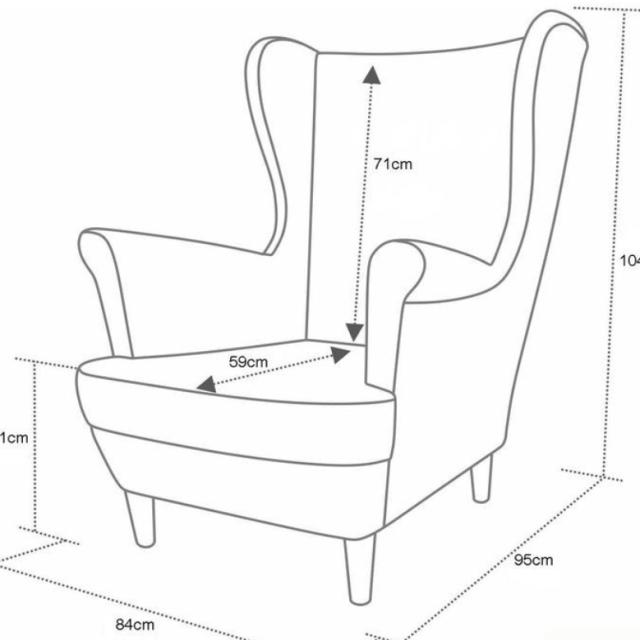Backrest: (304, 34, 528, 347)
Leg_Structure: (122, 449, 493, 607)
Seat: (73, 338, 400, 469)
Wing_Flange: (491, 7, 591, 277), (242, 34, 319, 265)
sofa_armrest: (362, 236, 544, 530), (76, 226, 310, 361)
